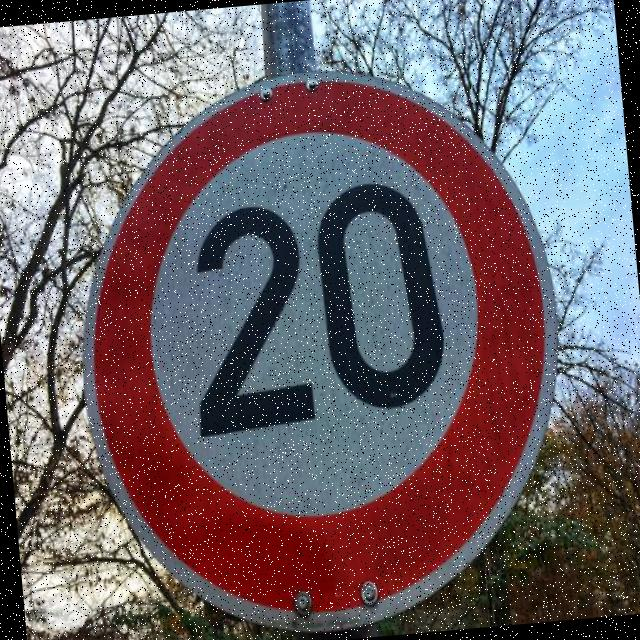speed_limit_20: (52, 30, 581, 640)
